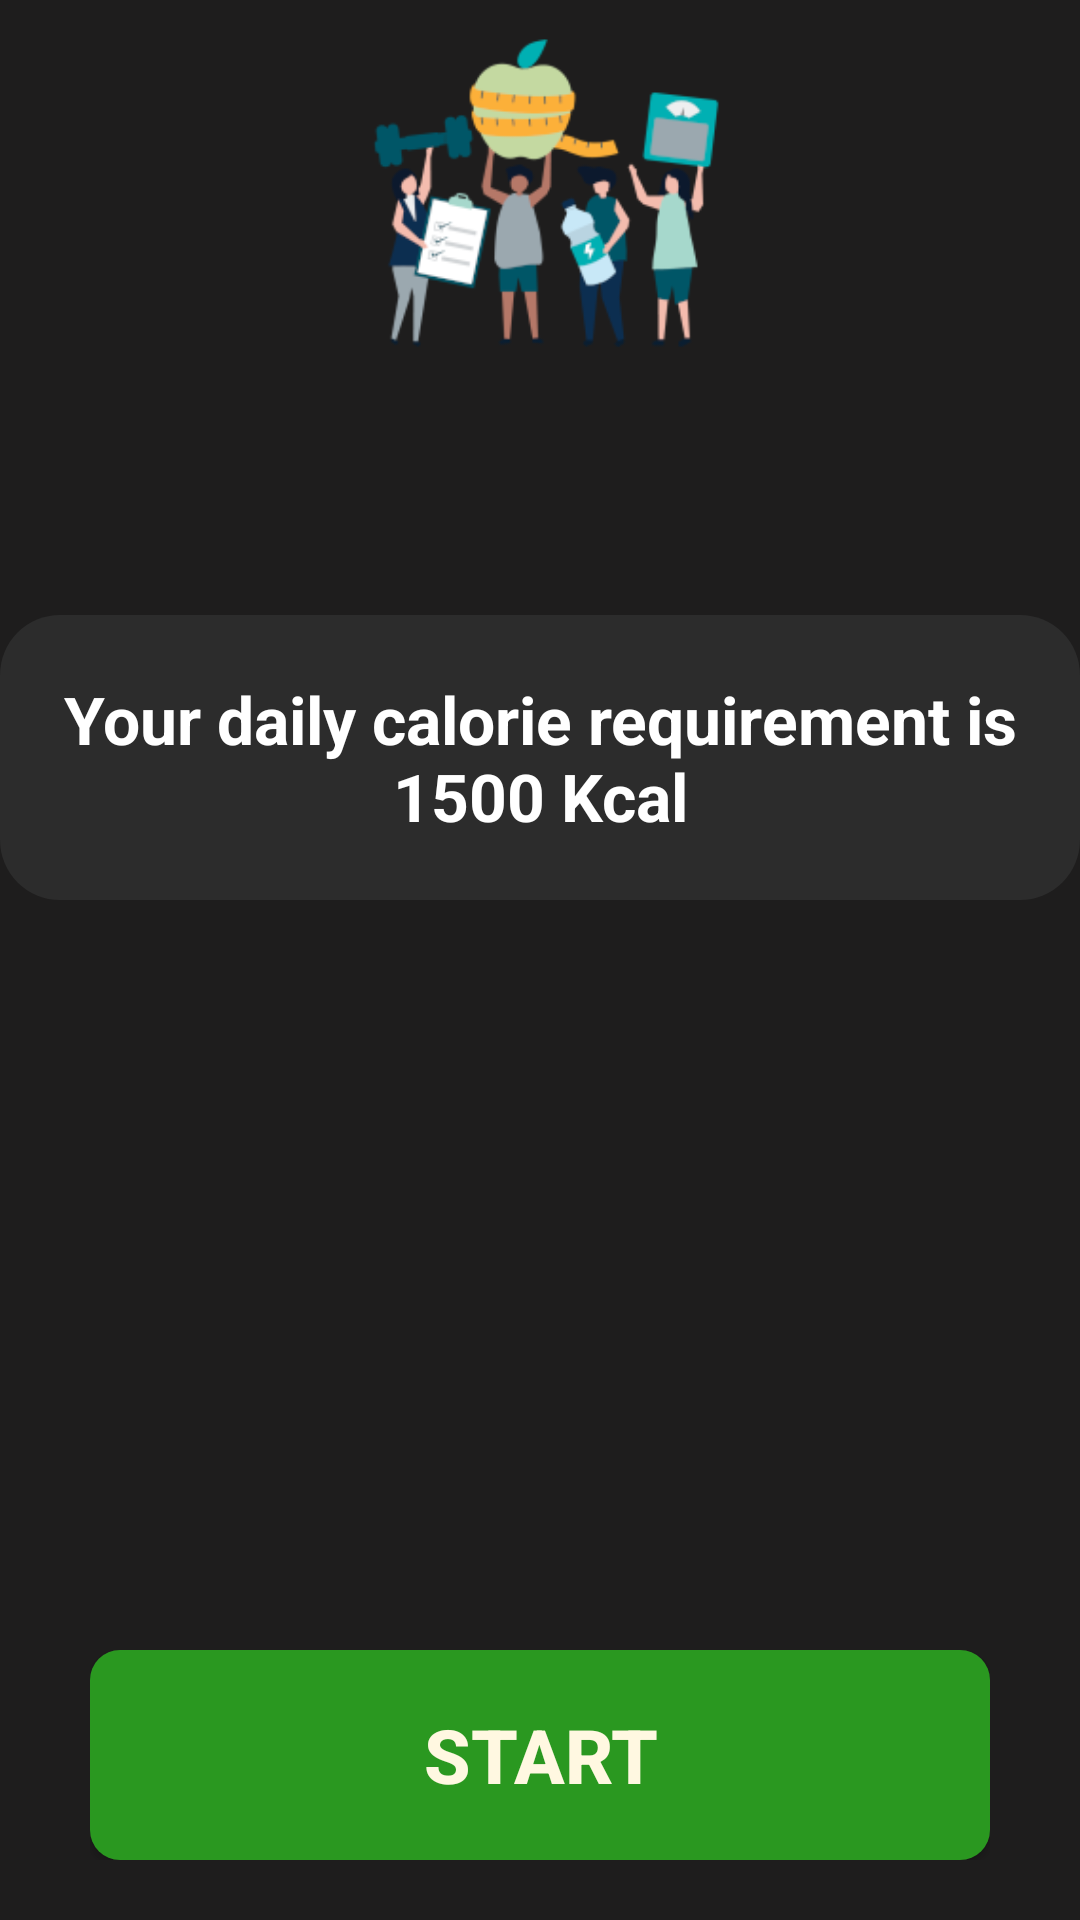

Named icons in this screenshot (1080 × 1920) and their bounding boxes, {"left": x1, "top": y1, "right": x2, "bottom": y2}:
calorie: {"left": 375, "top": 39, "right": 719, "bottom": 343}
